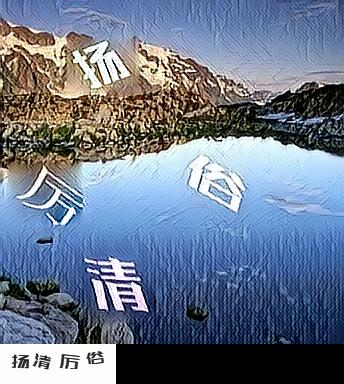character: (12, 161, 87, 228), (81, 253, 152, 318), (185, 151, 247, 214), (69, 38, 132, 89)
